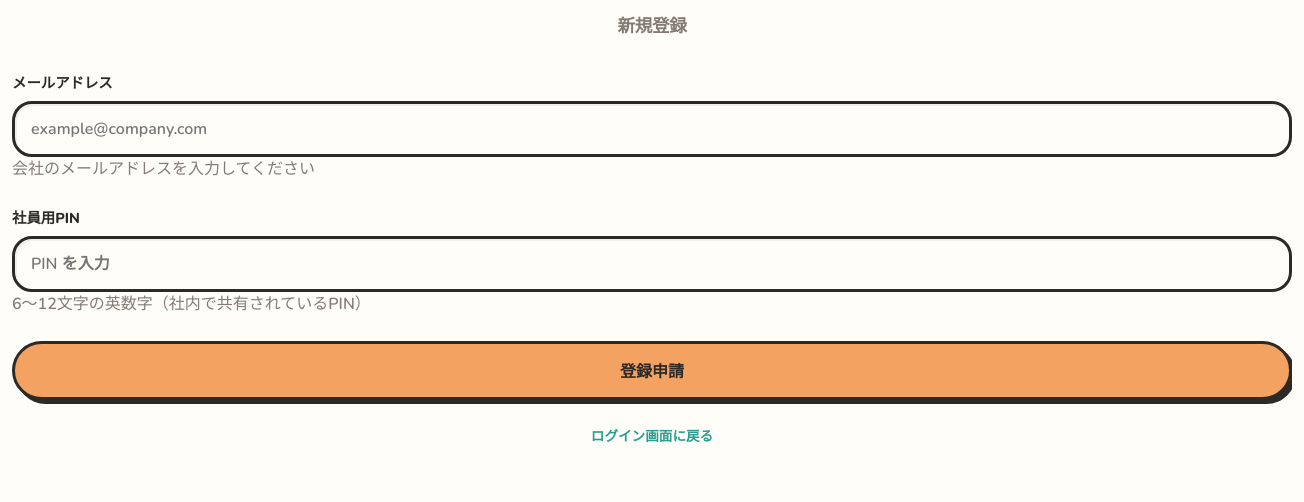
Test: SignupPage › API連携 › APIエラー時にエラーメッセージが表示される
Type "test@example.com" into the field labelled "メールアドレス".
click(652, 129); type("test@example.com")  # box x1=12 y1=101 x2=1292 y2=157
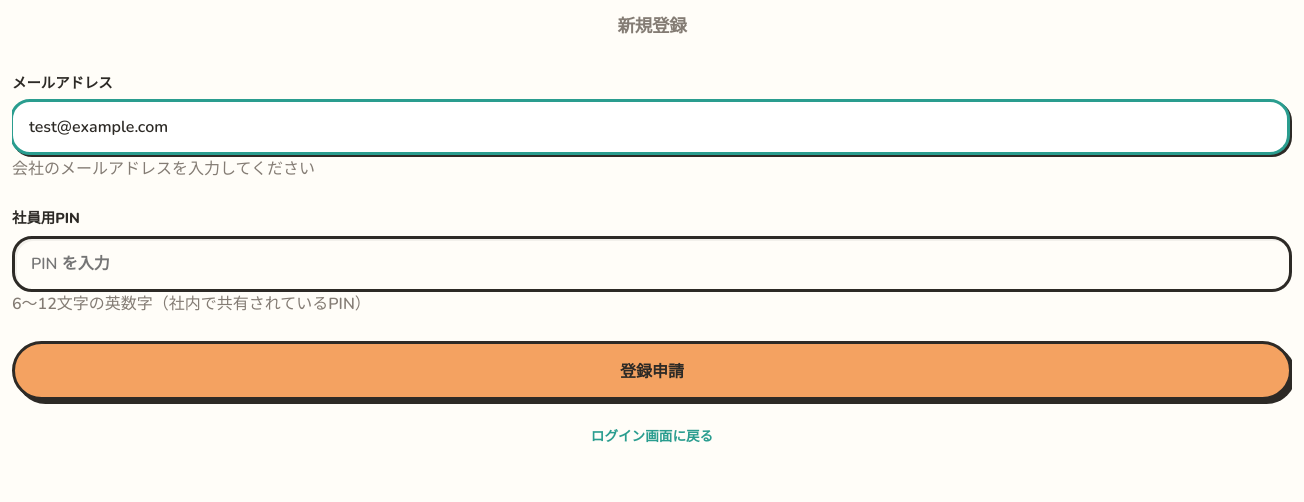
Type "abc123" into the field labelled "社員用PIN".
click(652, 264); type("abc123")  # box x1=12 y1=236 x2=1292 y2=292
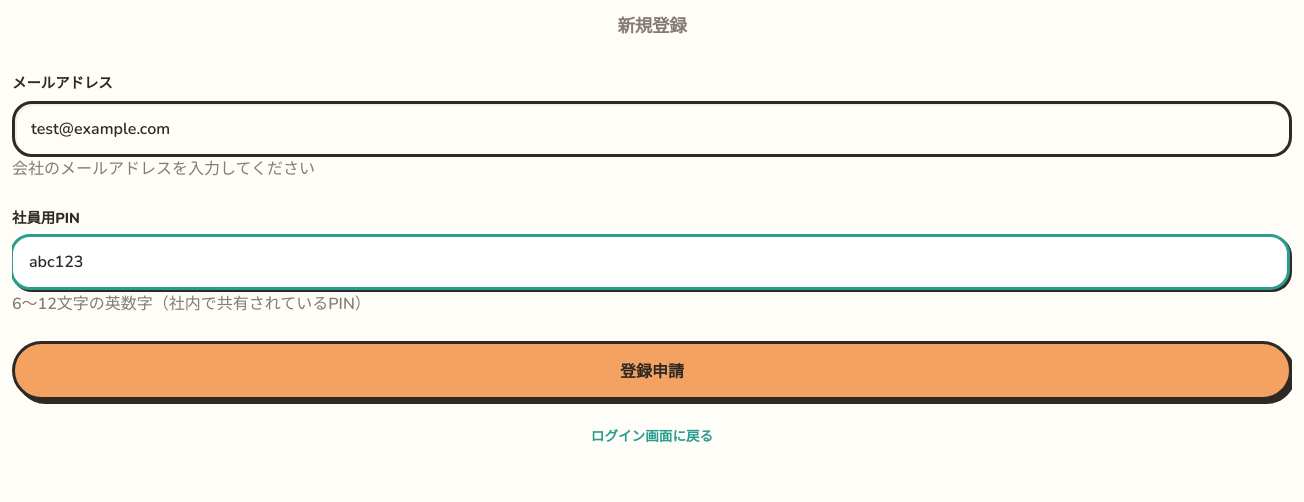
Click the button "登録申請".
click(652, 371)  # box x1=12 y1=341 x2=1292 y2=400
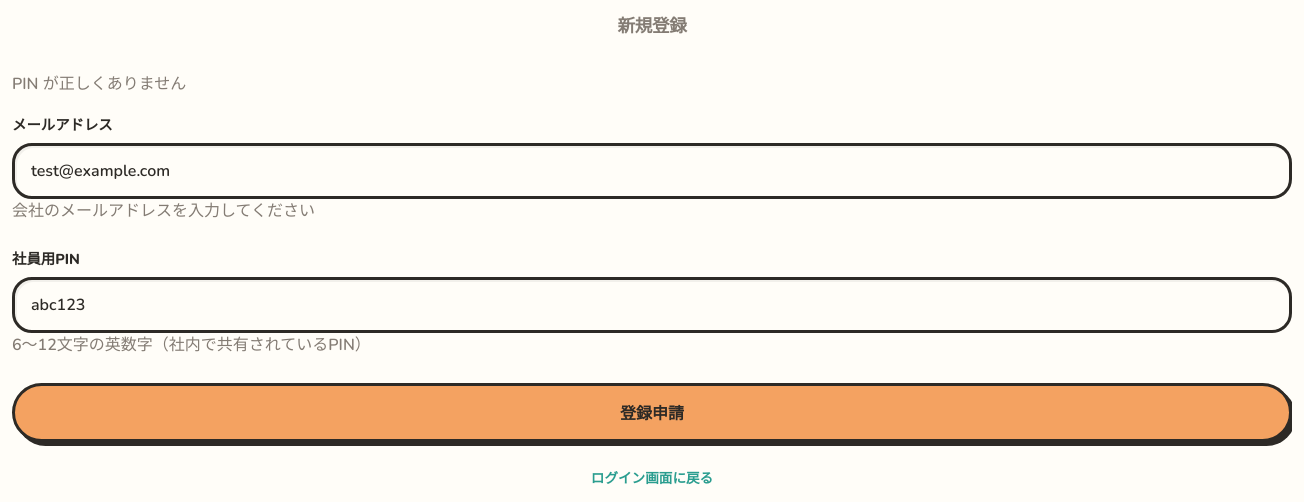
expect the text "PIN が正しくありません" is shown: met, box x1=12 y1=73 x2=186 y2=95
